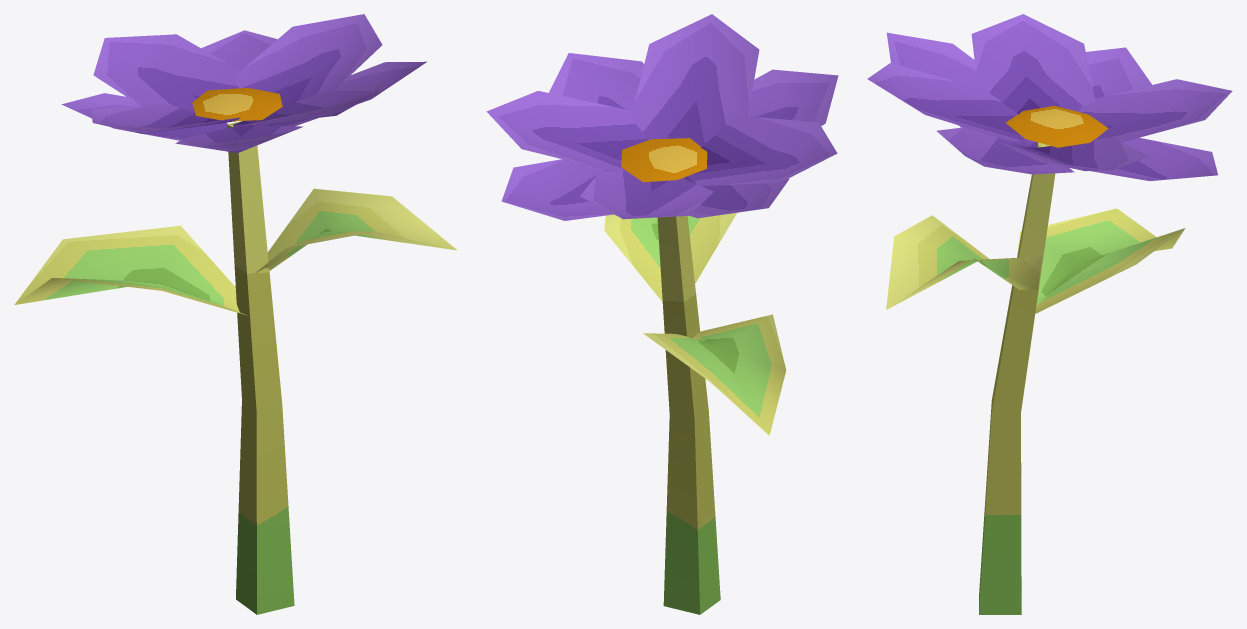
The model's file is SM_Flower.fbx.
3 renders of one model, left to right at view 1: azimuth 30°, elevation 25°; view 2: azimuth 150°, elevation 25°; view 3: azimuth 270°, elevation 25°, orthographic. The views are drawn at different scales.
Parts seen in each view (by area): view 1: Flower; view 2: Flower; view 3: Flower.
Boxes of the visible parts, bbox=[...] form: Flower: bbox=[14, 14, 456, 614]; Flower: bbox=[486, 14, 838, 614]; Flower: bbox=[867, 14, 1232, 614].
Size of the model in its own units: 59.82 by 97.42 by 58.78.
